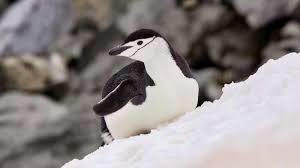chinstrap: (78, 28, 213, 142)
